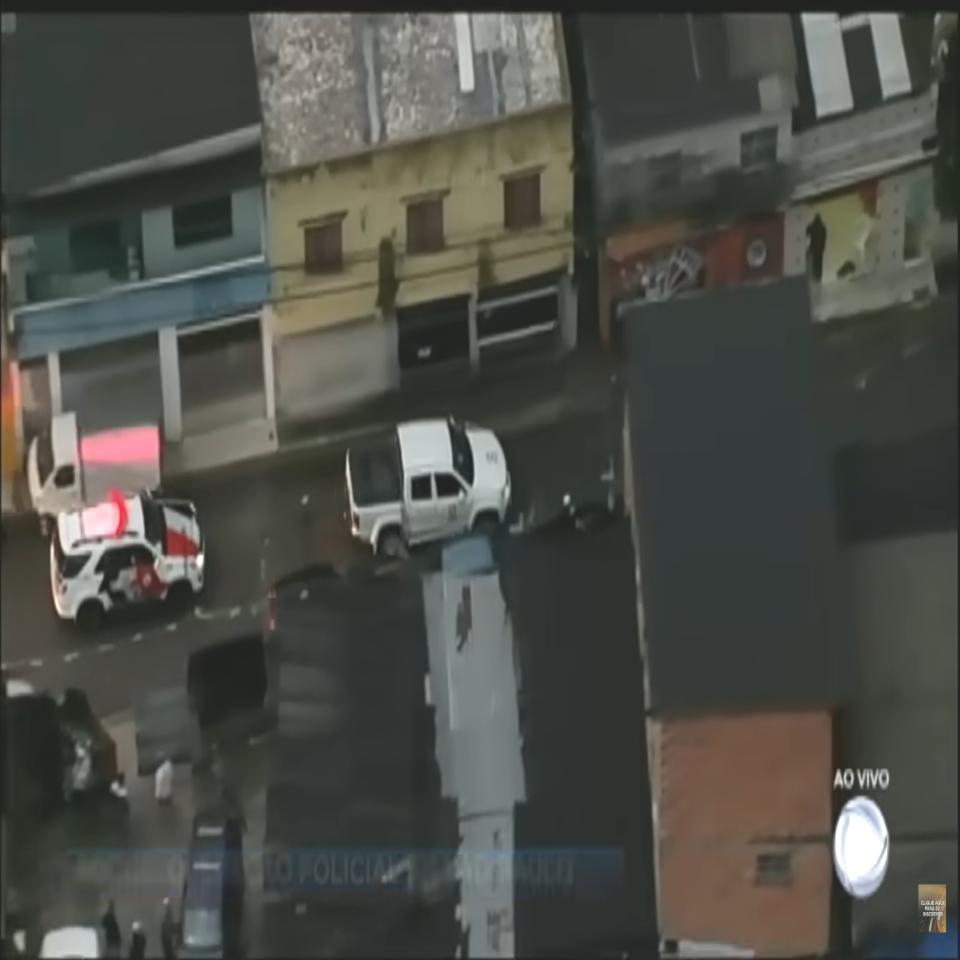viatura: (48, 489, 206, 634)
